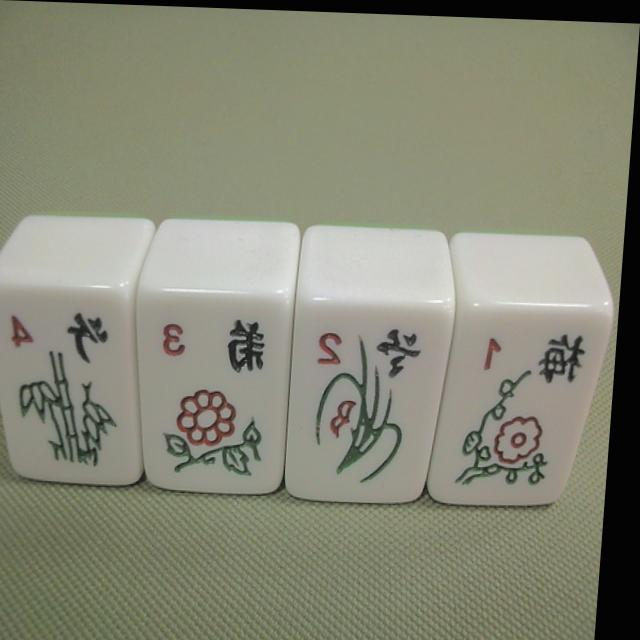f1: (432, 305, 616, 507)
f2: (282, 303, 449, 507)
f3: (127, 292, 293, 488)
f4: (0, 285, 150, 486)
